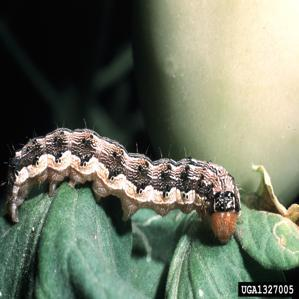Cotton bollworm: (6, 82, 251, 259)
